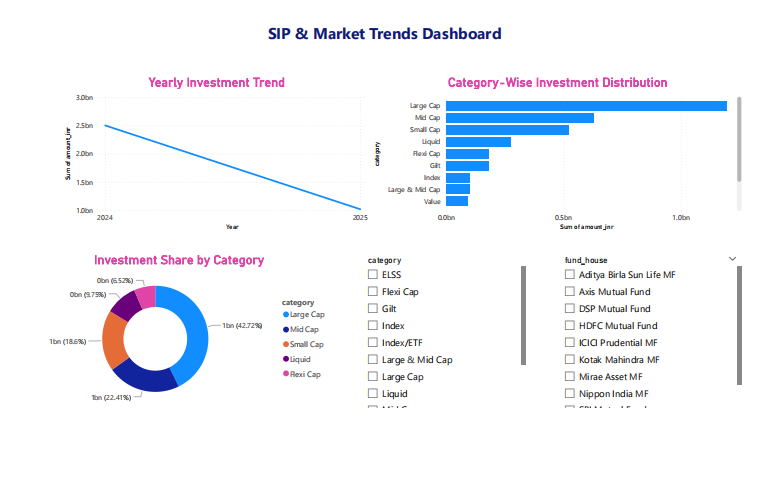

The dashboard page shown, as its layout file describes it:
{"tool":"powerbi","page":{"name":"SIP & Market Trends","canvas":[1280,720],"ordinal":3},"visuals":[{"type":"lineChart","title":"Yearly Investment Trend","fields":{"Category":["08_investor_transactions_clean.transaction_date.Variation.Date Hierarchy.Year","08_investor_transactions_clean.transaction_date.Variation.Date Hierarchy.Quarter","08_investor_transactions_clean.transaction_date.Variation.Date Hierarchy.Month","08_investor_transactions_clean.transaction_date.Variation.Date Hierarchy.Day"],"Y":["Sum(08_investor_transactions_clean.amount_inr)"]},"box":[80,112,528,272],"z":0},{"type":"clusteredBarChart","title":"Category-Wise Investment Distribution","fields":{"Category":["07_scheme_performance_clean.category"],"Y":["Sum(08_investor_transactions_clean.amount_inr)"]},"box":[608,112,640,272],"z":1000},{"type":"donutChart","title":"Investment Share by Category","fields":{"Category":["07_scheme_performance_clean.category"],"Y":["Sum(08_investor_transactions_clean.amount_inr)"]},"box":[16,416,528,272],"z":2000},{"type":"slicer","fields":{"Values":["07_scheme_performance_clean.category"]},"box":[592,416,288,272],"z":3000},{"type":"slicer","fields":{"Values":["07_scheme_performance_clean.fund_house"]},"box":[928,416,320,272],"z":4000},{"type":"textbox","box":[304,16,656,64],"z":5000}]}

Visuals, with their boxes on the page's 1280x720 design canvas (x1, y1, x2, y2). These are canvas units, not pixel positions in the 771x498 screenshot, which may show the page scaled, cropped or inside an application window:
"Yearly Investment Trend" lineChart: [80, 112, 608, 384]
"Category-Wise Investment Distribution" clusteredBarChart: [608, 112, 1248, 384]
"Investment Share by Category" donutChart: [16, 416, 544, 688]
slicer - 07_scheme_performance_clean.category: [592, 416, 880, 688]
slicer - 07_scheme_performance_clean.fund_house: [928, 416, 1248, 688]
textbox: [304, 16, 960, 80]
